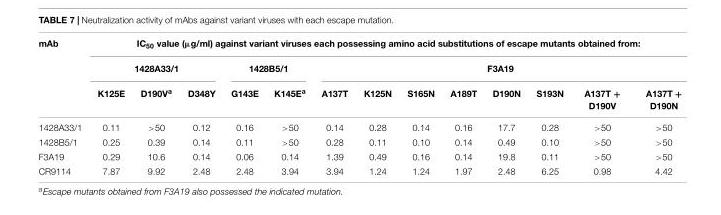table: (37, 37, 681, 175)
table column: (573, 37, 632, 175), (37, 37, 89, 175), (632, 37, 681, 175), (131, 37, 178, 175), (265, 37, 312, 175), (527, 37, 573, 175), (178, 37, 222, 175), (483, 37, 527, 175), (222, 37, 265, 175), (312, 37, 355, 175), (355, 37, 398, 175), (398, 37, 441, 175), (89, 37, 131, 175), (441, 37, 483, 175)
table column header: (37, 37, 681, 115)
table row: (37, 79, 681, 115), (37, 55, 681, 79), (37, 115, 681, 134), (37, 37, 681, 55), (37, 148, 681, 163), (37, 134, 681, 148), (37, 163, 681, 175)
table spanning cell: (89, 37, 681, 55), (312, 55, 681, 79), (37, 37, 89, 115), (89, 55, 222, 79), (222, 55, 312, 79)
